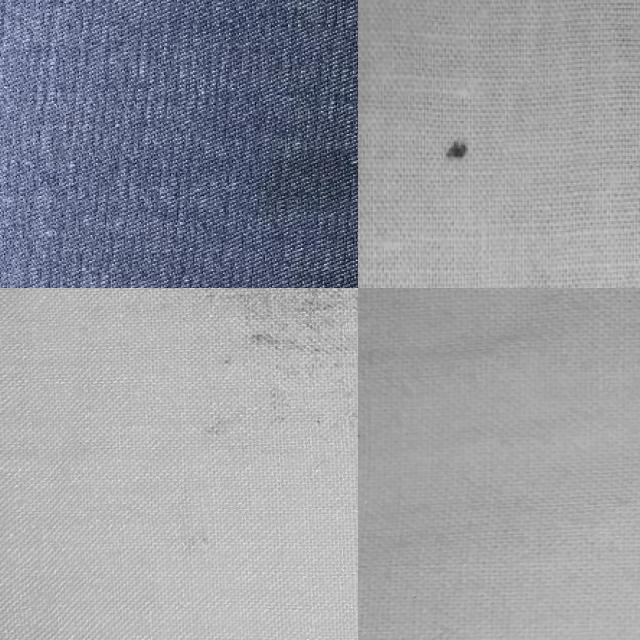Thread_other: (95, 288, 358, 458), (415, 112, 497, 186)
